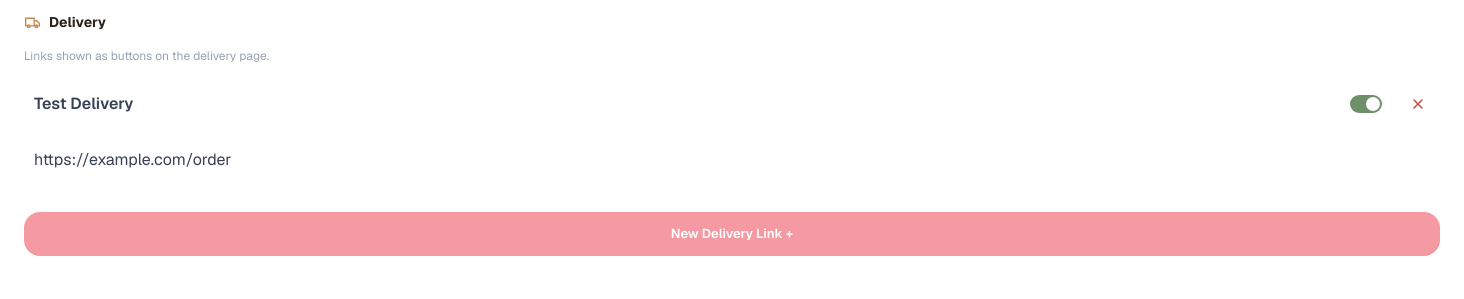
it: admin delivery section › shows the required URL error after an existing URL is cleared
Clear the field named "Test Delivery delivery link" at (732, 160), box [24,138,1440,182]
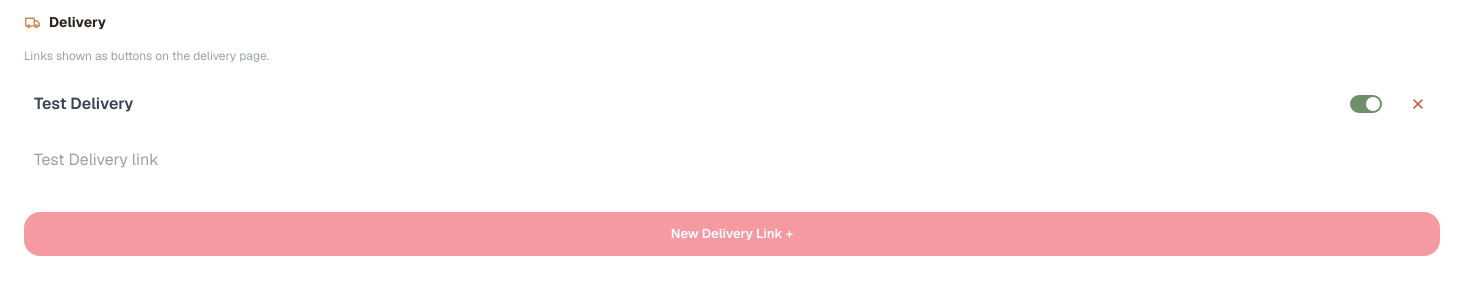
Leave the field named "Test Delivery delivery link", box [24,138,1440,182]
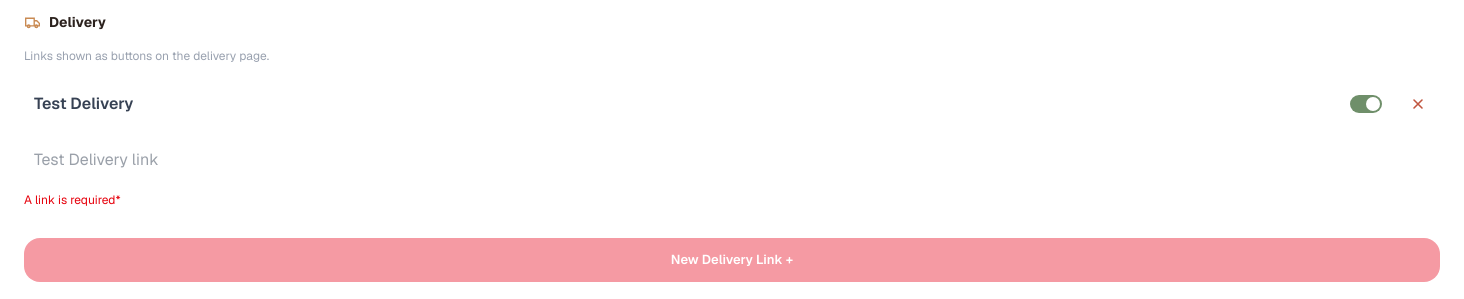
Now the text "A link is required*" is shown, box [24,192,121,208]
